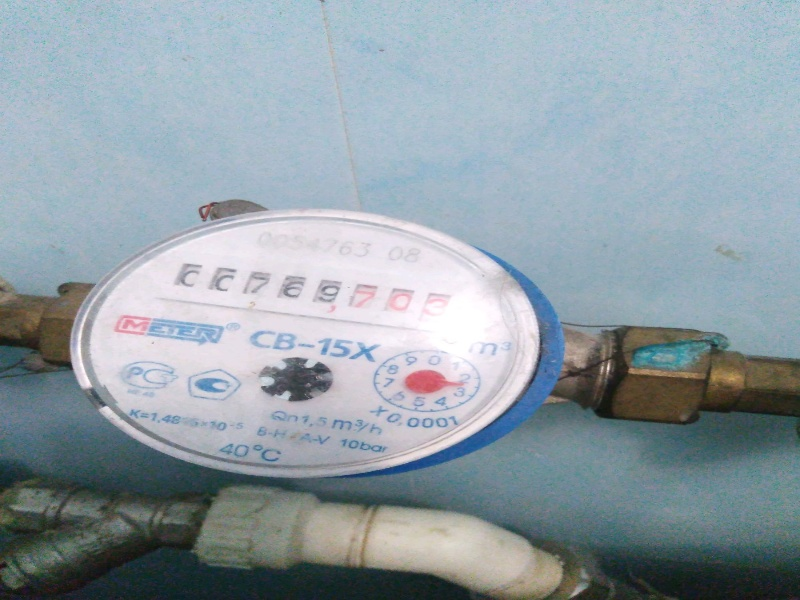meter: (175, 263, 452, 324)
